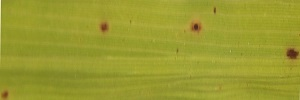RiceBrownSpot: (185, 18, 206, 38), (283, 39, 299, 63), (94, 21, 112, 37)
